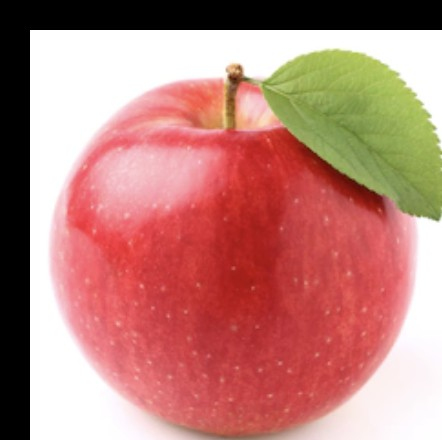fresh_apple: (51, 76, 418, 439)
